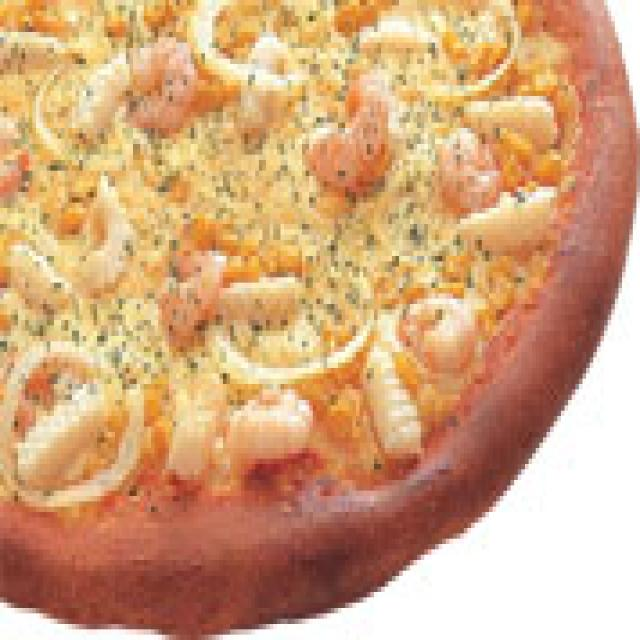汉堡快餐: (0, 0, 626, 619)
